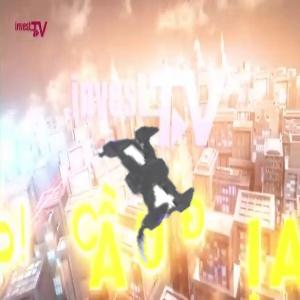drone: (25, 48, 272, 295)
